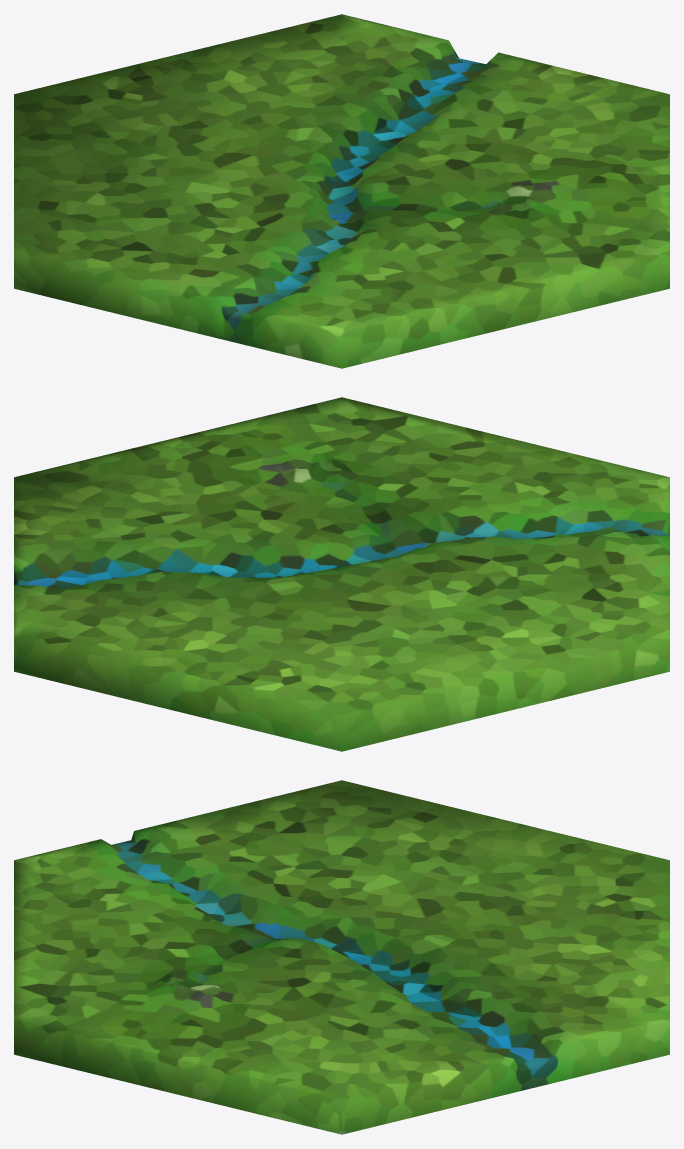
Rendered from HexTop_River.fbx.
3 renders of one model, top to bottom at view 1: azimuth 30°, elevation 25°; view 2: azimuth 150°, elevation 25°; view 3: azimuth 270°, elevation 25°, orthographic.
Visible parts, largest first — view 1: HexTop_River; view 2: HexTop_River; view 3: HexTop_River.
Boxes of the visible parts, x1,y1,x2,y2 form: HexTop_River: (14,14,669,368); HexTop_River: (14,397,669,751); HexTop_River: (14,780,669,1134).
Size of the model in its own units: 100 by 6.5 by 86.6.
